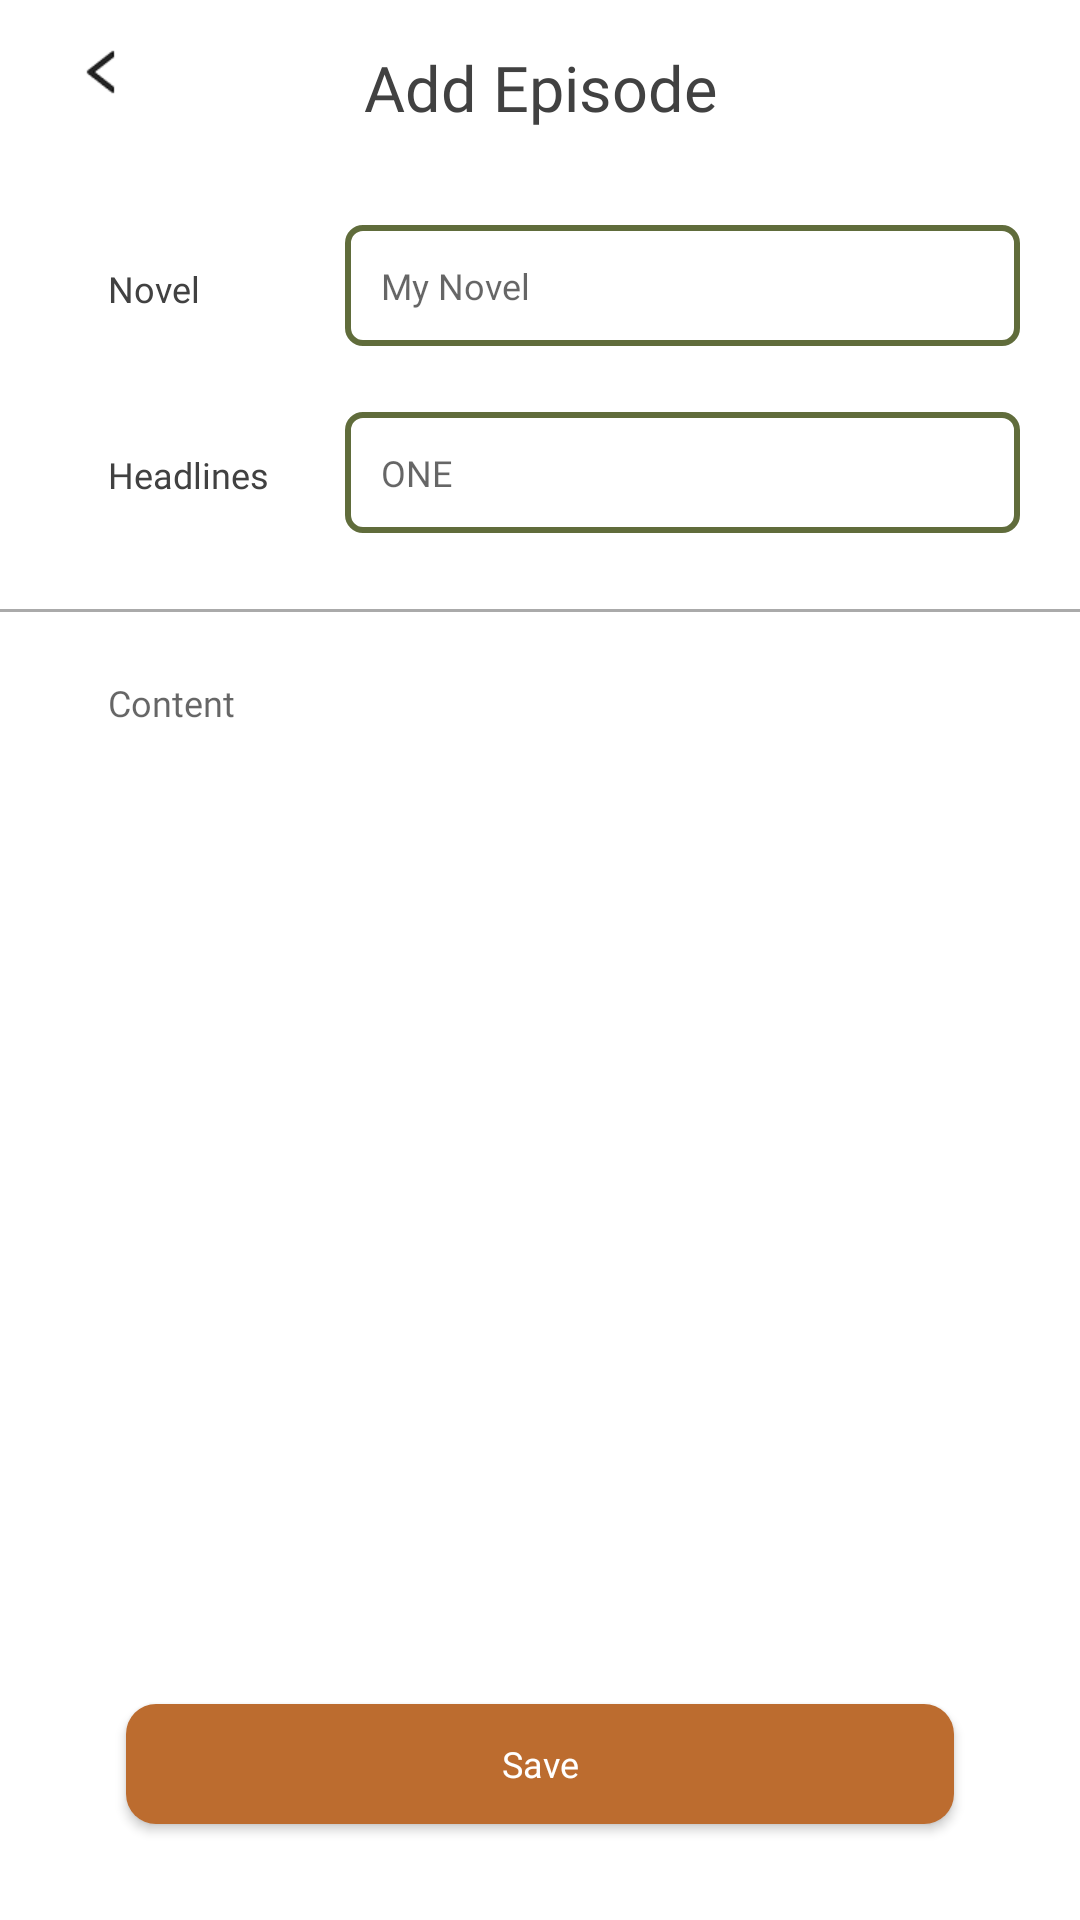

Screen size 1080×1920. Icon name, then its box in pixels as rect(x1, y1, x2, y2):
arrow left: rect(86, 50, 115, 94)
